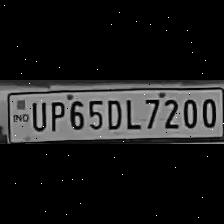0: (198, 96, 218, 128), (180, 96, 198, 128)
2: (160, 96, 178, 130)
5: (86, 96, 104, 130)
6: (65, 97, 85, 131)
7: (140, 96, 160, 130)
D: (104, 96, 122, 130)
L: (122, 96, 140, 130)
P: (46, 97, 64, 132)
U: (27, 98, 47, 132)
